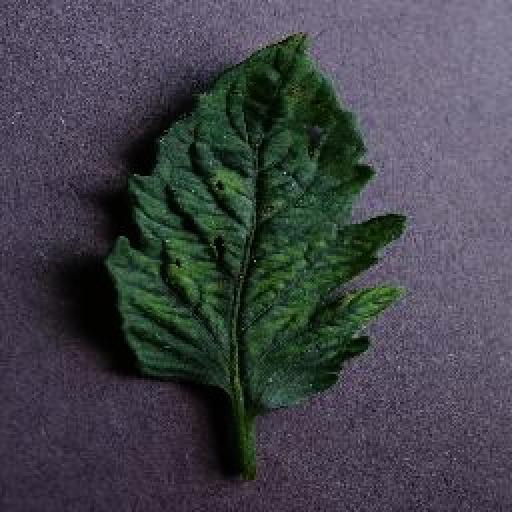disease_tomato: (98, 30, 410, 416)
